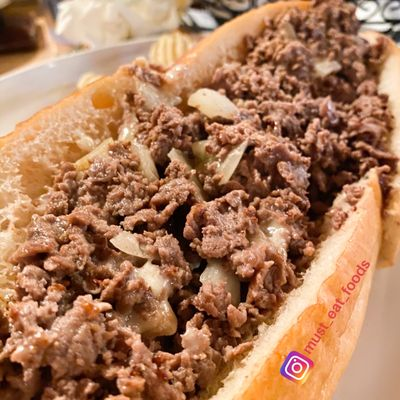sandwich: (0, 2, 397, 400)
sushi: (0, 3, 399, 399)
